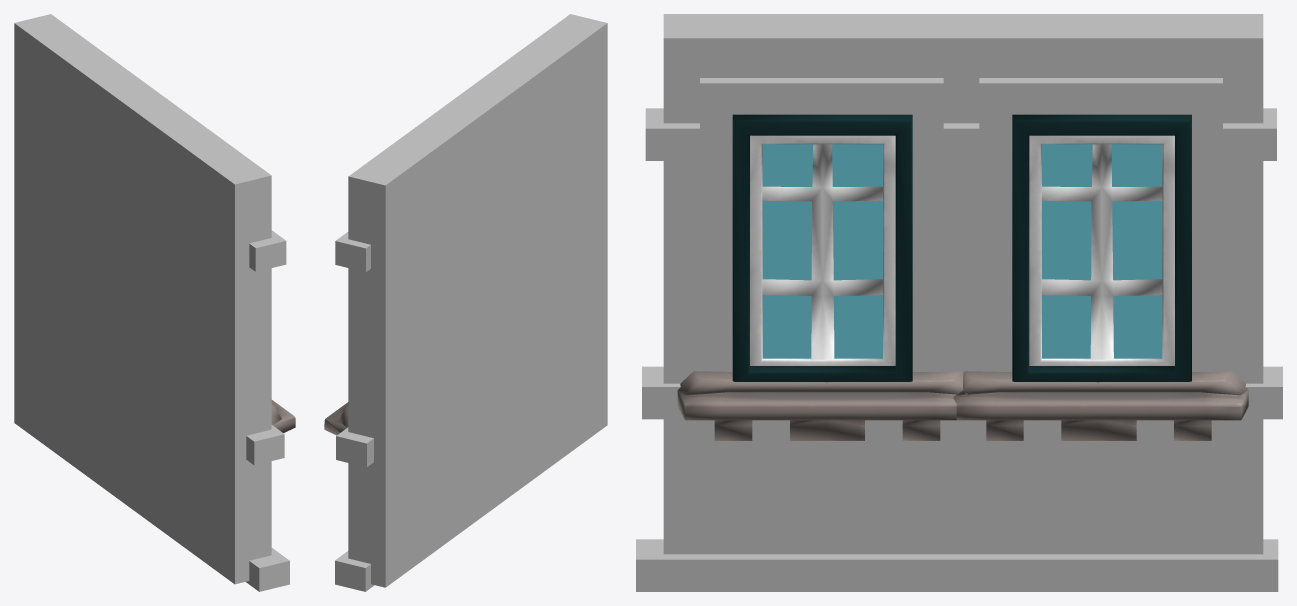
The model's file is Building_Wall_01.fbx.
3 renders of one model, left to right at view 1: azimuth 30°, elevation 25°; view 2: azimuth 150°, elevation 25°; view 3: azimuth 270°, elevation 25°, orthographic. The views are drawn at different scales.
Parts seen in each view (by area): view 1: BuildingBody.004; view 2: BuildingBody.004; view 3: BuildingBody.004.
Part boxes in pixels (left/top/right/bottom): BuildingBody.004: left=14, top=14, right=295, bottom=591; BuildingBody.004: left=324, top=14, right=607, bottom=591; BuildingBody.004: left=636, top=14, right=1282, bottom=591.
Size of the model in its own units: 450 by 2522 by 2697.
